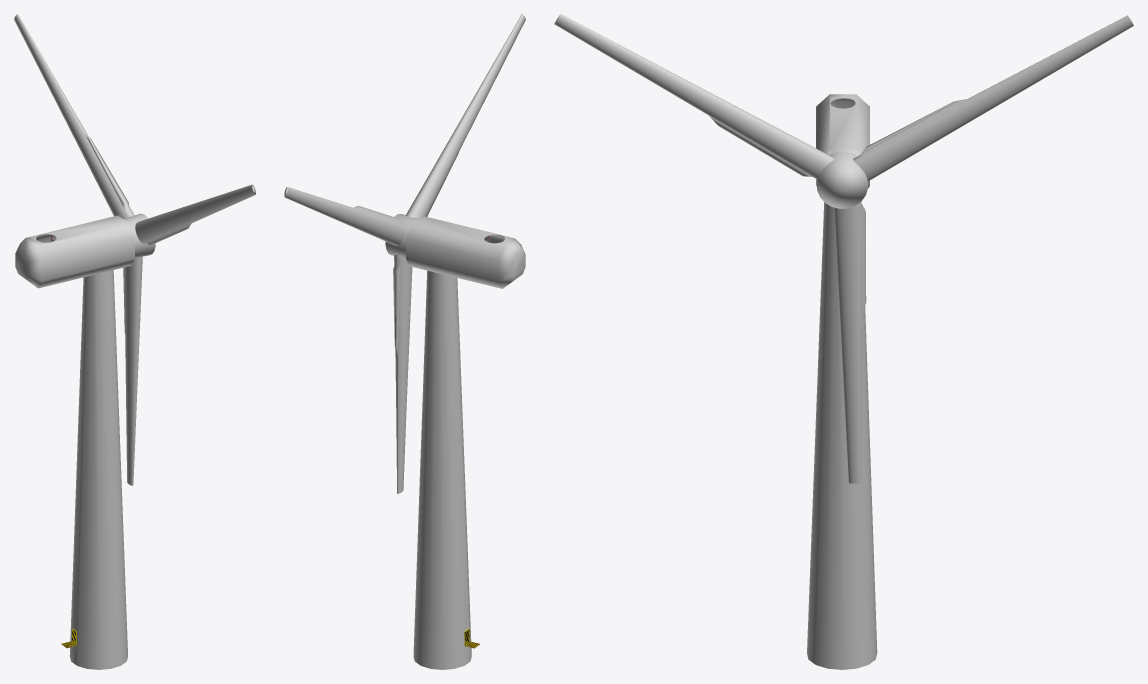
Rendered from WindTurbine.fbx.
3 views of the same model, side by side, from view 1: azimuth 30°, elevation 25°; view 2: azimuth 150°, elevation 25°; view 3: azimuth 270°, elevation 25° (orthographic). The views are drawn at different scales.
Parts seen in each view (by area): view 1: Windmill_Tower, Blades, Mill_Motor4; view 2: Windmill_Tower, Blades, Mill_Motor4; view 3: Blades, Windmill_Tower, Mill_Motor4.
Boxes of the visible parts, x1,y1,x2,y2 form: Windmill_Tower: (61, 270, 127, 669); Blades: (14, 14, 255, 485); Mill_Motor4: (15, 215, 134, 288); Windmill_Tower: (413, 270, 479, 669); Blades: (284, 14, 525, 493); Mill_Motor4: (406, 216, 525, 288); Blades: (554, 14, 1133, 483); Windmill_Tower: (807, 202, 877, 669); Mill_Motor4: (816, 94, 869, 188).
Bounding box in the file's own units: 21.36 × 86.84 × 68.88.
7 materials, 1 textured.
